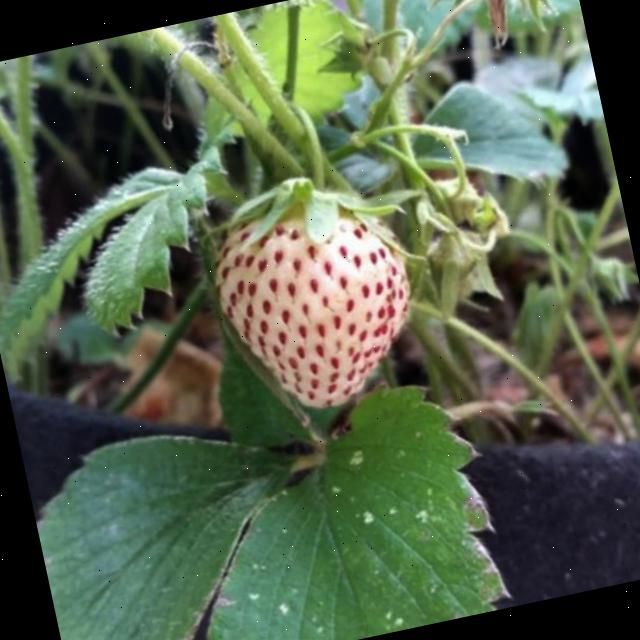strawberry: (199, 171, 432, 424)
